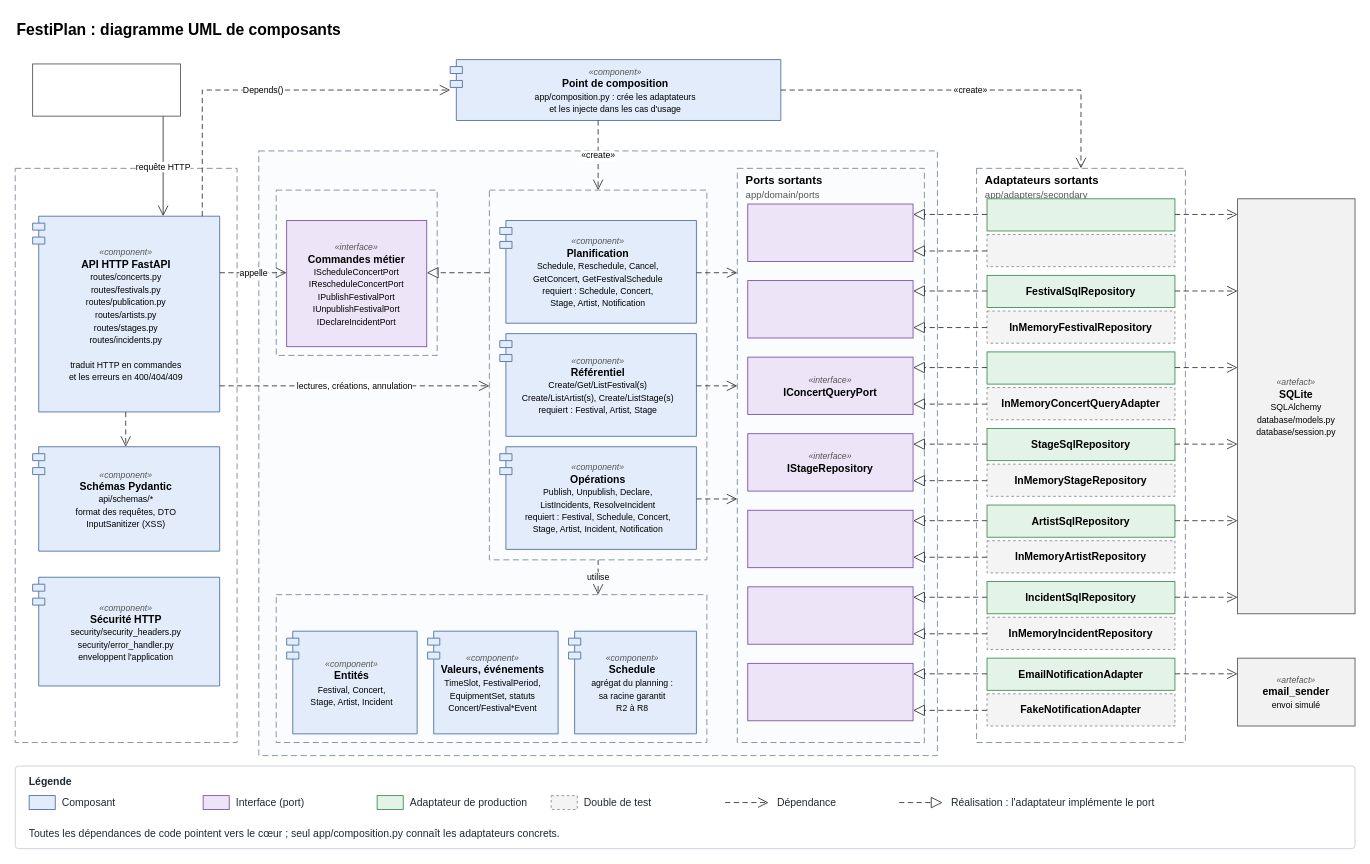
Image size: 1370x864. Some labels were removed from this diagram. Here are the shapes that lost their labels. From the top down, the box of each, then its label:
(32, 63, 181, 116): «acteur» Client HTTP Swagger, TestClient
(747, 203, 913, 261): «interface» IScheduleRepository
(986, 198, 1175, 231): ScheduleSqlRepository
(986, 234, 1175, 267): InMemoryScheduleRepository
(275, 189, 437, 355): Ports entrants app/application/ports
(747, 280, 913, 338): «interface» IFestivalRepository
(489, 189, 707, 560): Cas d'usage app/application/use_cases
(986, 351, 1175, 384): ConcertSqlQueryAdapter
(14, 167, 237, 743): Adaptateurs entrants app/adapters/primary
(258, 150, 937, 756): Cœur applicatif aucune dépendance à FastAPI ni SQLAlchemy
(747, 509, 913, 568): «interface» IArtistRepository
(747, 586, 913, 644): «interface» IIncidentRepository
(275, 594, 707, 743): Domaine app/domain
(747, 663, 913, 721): «interface» INotificationSenderPort
